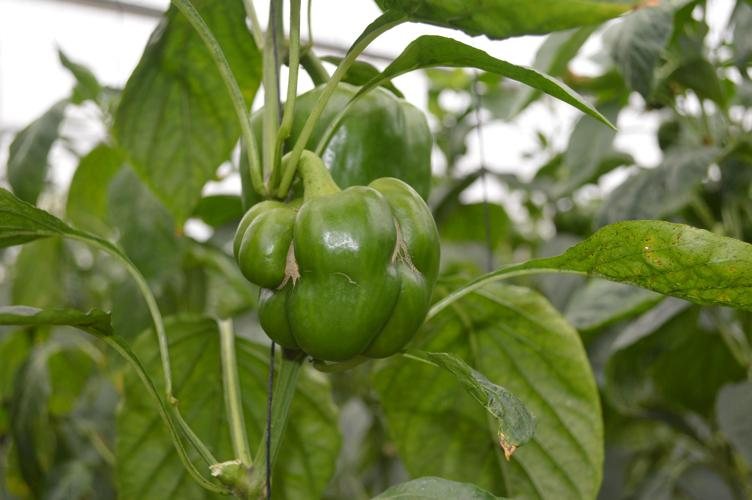BellPepper: (224, 189, 435, 353), (232, 84, 435, 198)
